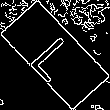L_NE: (25, 26, 85, 84)
